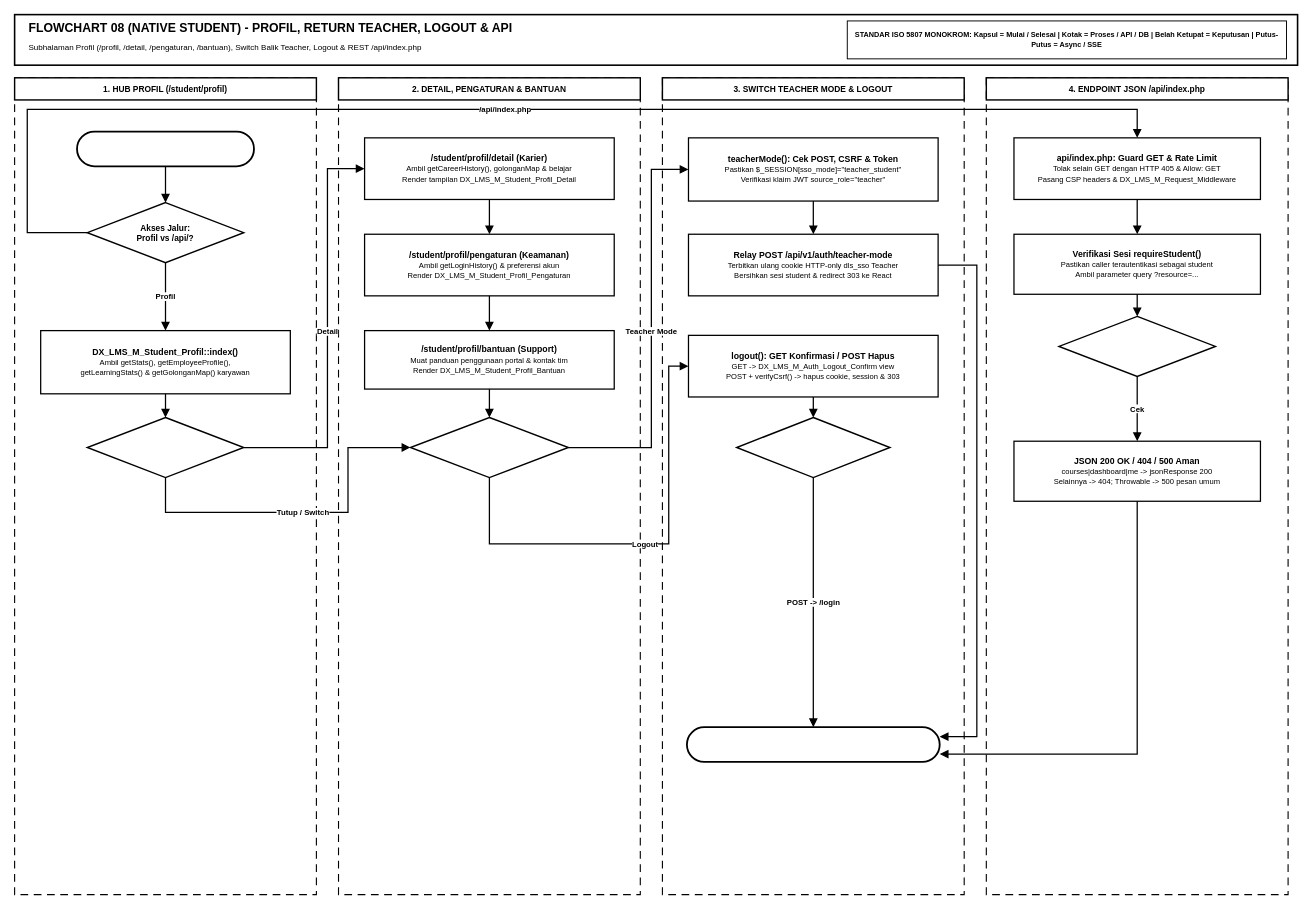
The diagram is 1311 pixels wide and 909 high, and some of its shapes have lost their labels. The shapes that lost their labels are listed below. From the top down, each one's centre as x and y in pixels, then its label:
the point at 165,148: PROFIL / SWITCH / API STUDENT
the point at 1137,346: Resource: courses/dash/me?
the point at 165,447: Subhalaman Profil Dipilih?
the point at 489,447: Aksi Akun: Teacher Mode/Logout?
the point at 813,447: Konfirmasi Logout Dikirim (POST)?
the point at 813,744: PROSES PROFIL, SWITCH & API SELESAI
